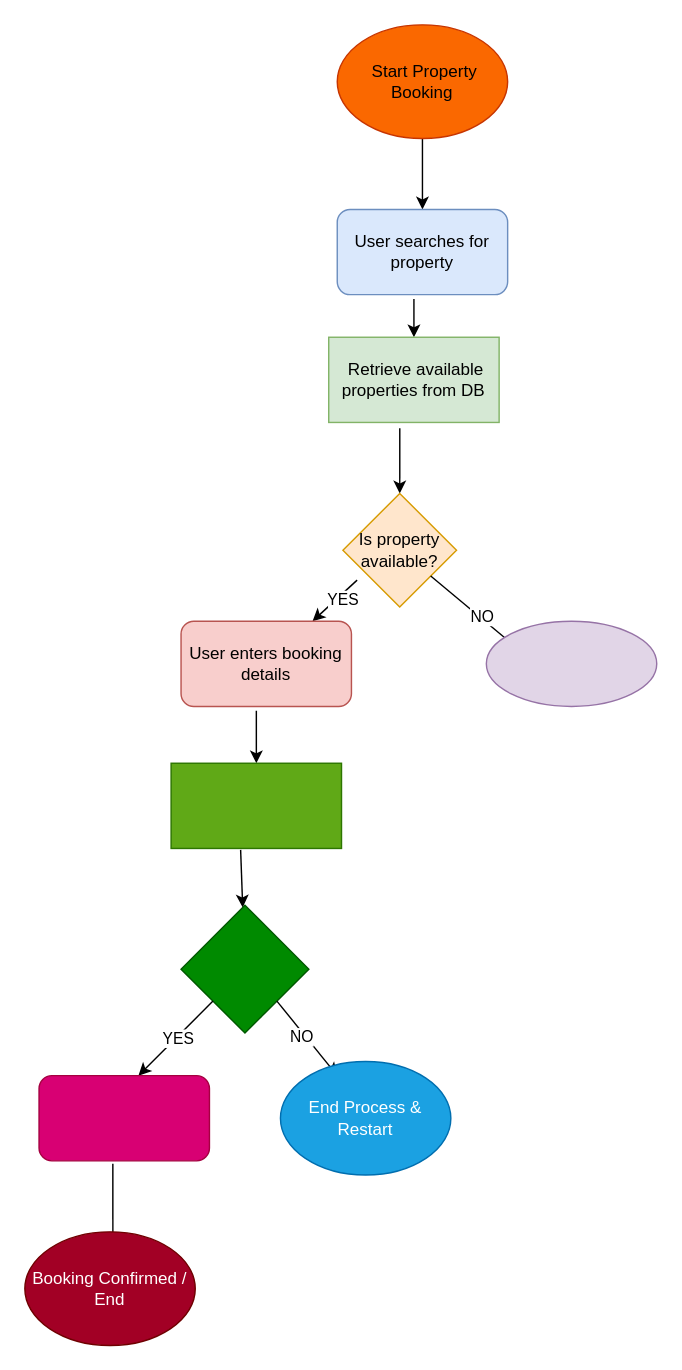
Some shapes in this 682 by 1370 pixel diagram are drawn without their labels. The centre of each missing label's shape, as x and y in pixels:
"Calculate total price" belongs at point (256, 805).
"End (Unavailable)" belongs at point (571, 663).
"Payment successful?" belongs at point (244, 968).
"Update Booking DB" belongs at point (123, 1117).
